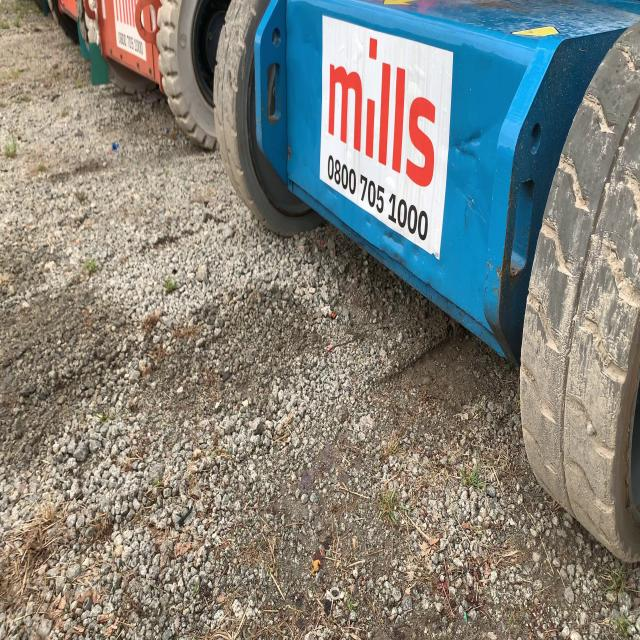Adesivos: (317, 11, 459, 266)
